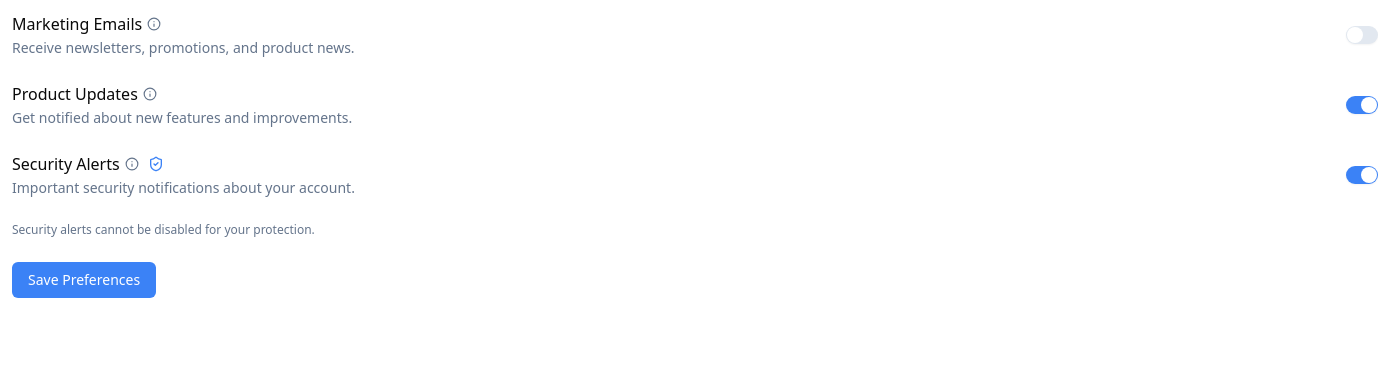
Test: components/forms/preferences-form › form submission › should show success message on successful update
This screenshot has width=1390, height=383.
Click the button "Save Preferences".
click(84, 280)  # box x1=12 y1=262 x2=156 y2=298
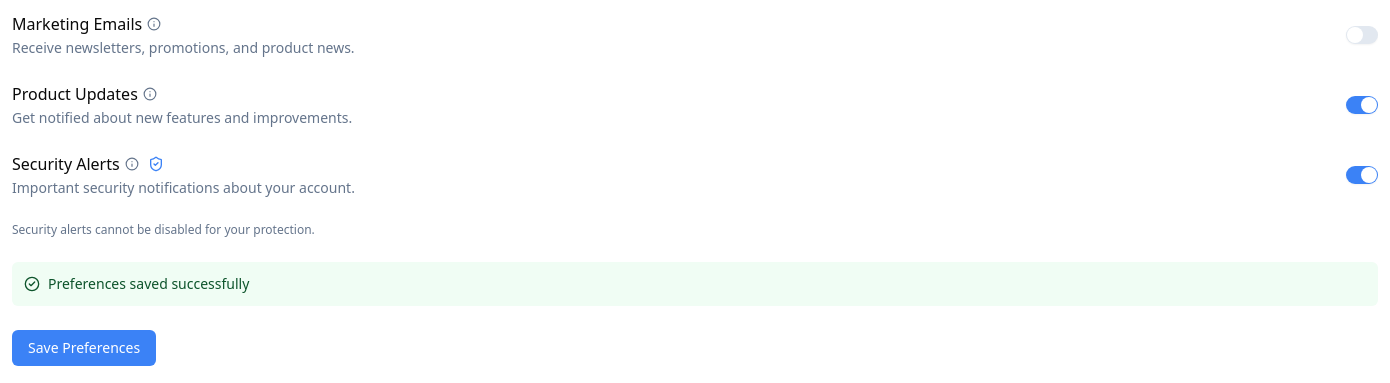
Result: the text "Preferences saved successfully" is shown at x1=12 y1=262 x2=1378 y2=306
